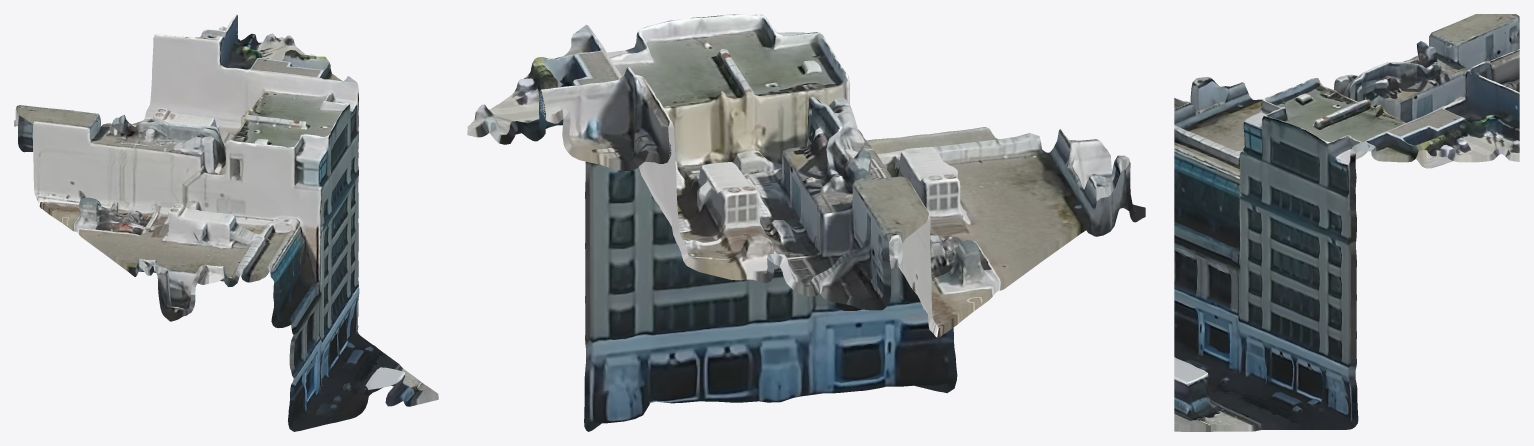
File: z20-167794-405229-h0-yup-uvflip-v3-world.glb
The picture shows the model from 3 angles, left to right: view 1: azimuth 30°, elevation 25°; view 2: azimuth 150°, elevation 25°; view 3: azimuth 270°, elevation 25°; orthographic projection. The views are drawn at different scales.
Bounding box in the file's own units: 30.2 × 31.16 × 30.32.
Materials: 1 (1 with a texture image).
